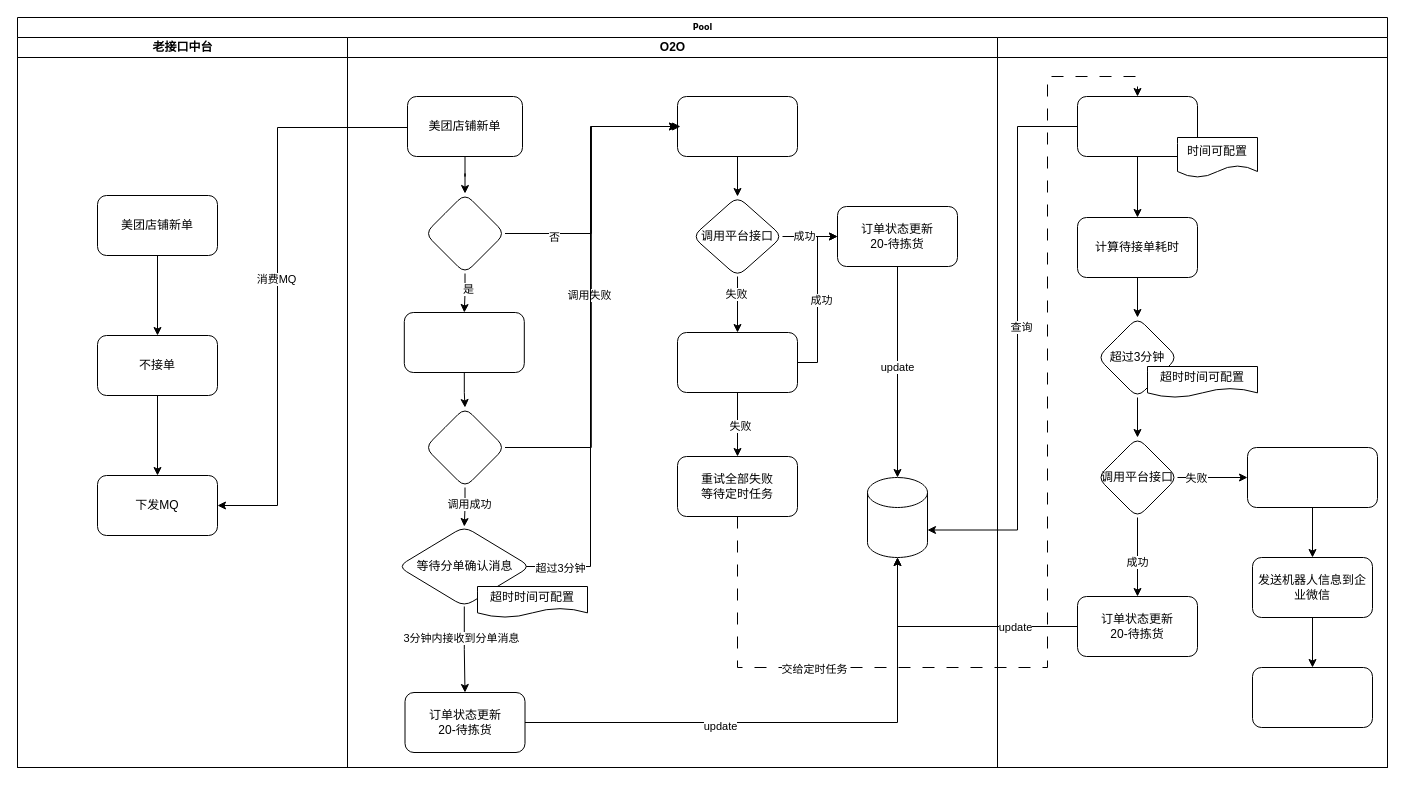
The diagram is 1405 pixels wide and 785 high, and some of its shapes have lost their labels. Here are the shapes that lost their labels. From the top down, the box of each, then its label:
(676, 96, 798, 156): OMS自动接单
(1076, 96, 1198, 156): 1分钟频率周期 拉取15分钟内待接单订单
(424, 192, 505, 274): 订单漂移
(403, 312, 524, 372): 通知美团分单
(676, 332, 798, 392): MQ延迟重试 接单3次
(996, 36, 1388, 768): 新接口中台
(424, 406, 505, 488): 分单接口
(1246, 446, 1378, 508): 记录接单失败订单，以及平台返回的错误日志
(866, 476, 928, 558): order_info
(1252, 666, 1372, 728): 等待下一个周期任务
